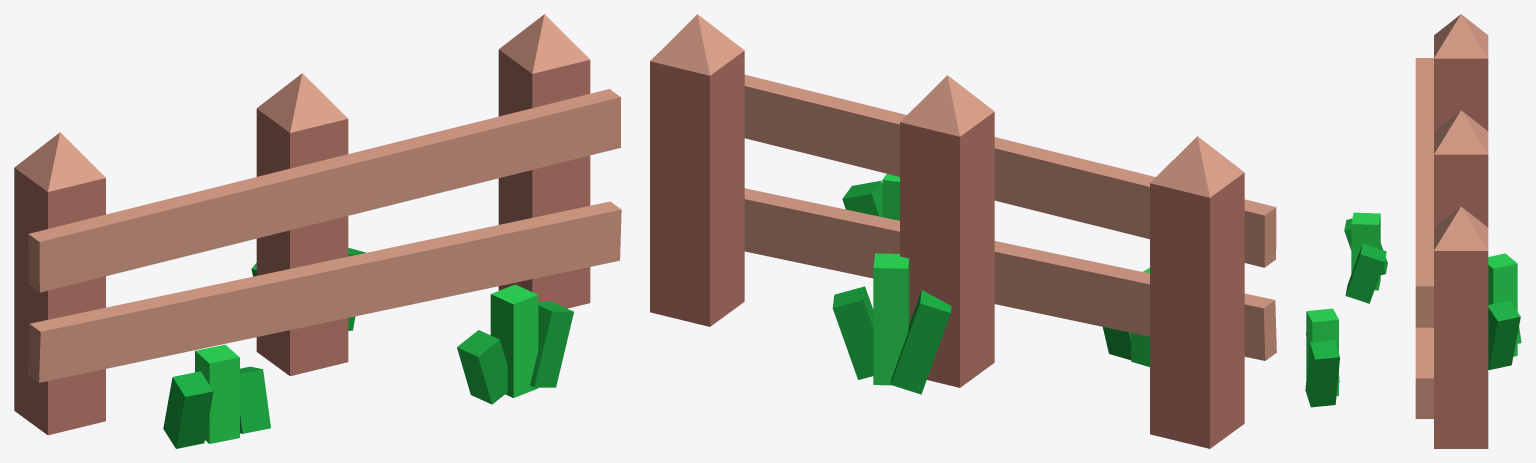
The model's file is Fence.fbx.
3 renders of one model, left to right at view 1: azimuth 30°, elevation 25°; view 2: azimuth 150°, elevation 25°; view 3: azimuth 270°, elevation 25°, orthographic. The views are drawn at different scales.
Parts seen in each view (by area): view 1: WoodLight.003, Wood.004, GrassDark.010, Grass.010; view 2: Wood.004, WoodLight.003, GrassDark.010, Grass.010; view 3: Wood.004, WoodLight.003, GrassDark.010, Grass.010.
Boxes of the visible parts, x1,y1,x2,y2 form: WoodLight.003: [14, 14, 621, 382]; Wood.004: [14, 49, 590, 435]; GrassDark.010: [163, 248, 573, 448]; Grass.010: [195, 284, 538, 443]; Wood.004: [650, 51, 1244, 448]; WoodLight.003: [650, 14, 1276, 360]; GrassDark.010: [832, 181, 1131, 394]; Grass.010: [873, 174, 1149, 385]; Wood.004: [1434, 58, 1488, 448]; WoodLight.003: [1415, 14, 1488, 418]; GrassDark.010: [1305, 218, 1521, 407]; Grass.010: [1306, 212, 1517, 396].
Bounding box in the file's own units: 6.01 × 2.83 × 2.37.
